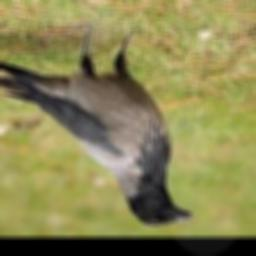Crow: (0, 28, 192, 227)
